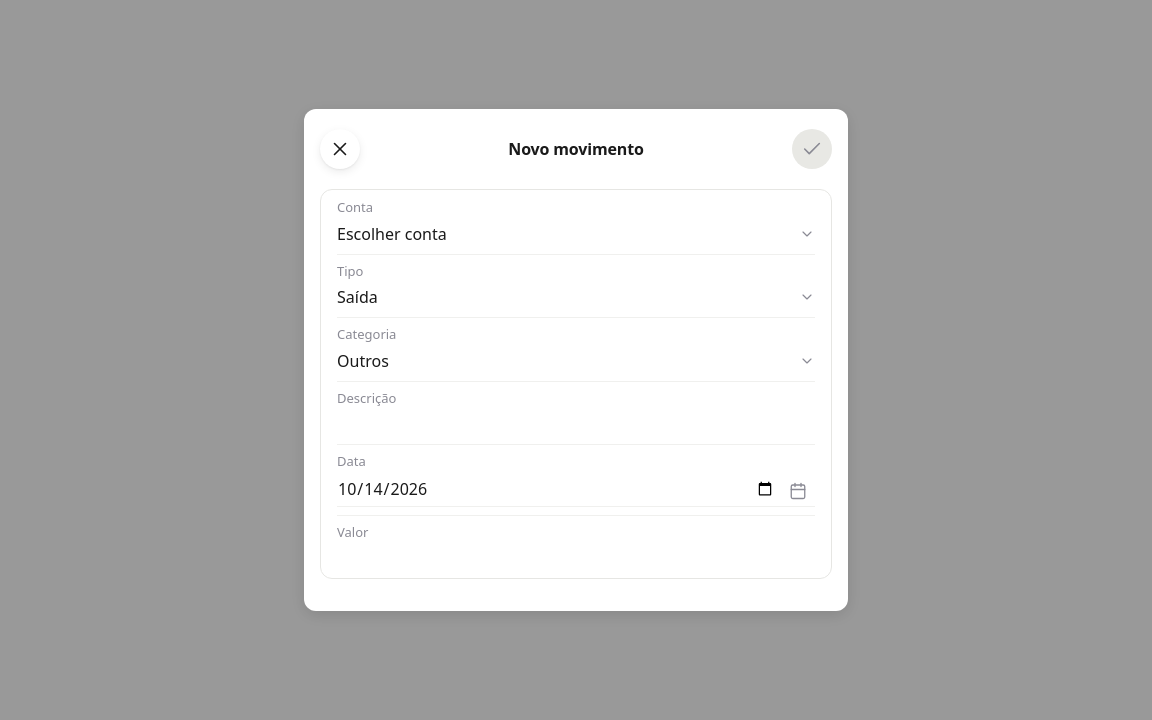
Test: Página Novo movimento › a categoria reservada "Acerto de saldo" não aparece para escolher, e a data não passa de hoje
The width and height of the screenshot is (1152, 720).
# A categoria por omissão de uma saída é "Outros", e não a reservada.
Click the button "Outros".
click(363, 360)  # box [337,348,815,372]
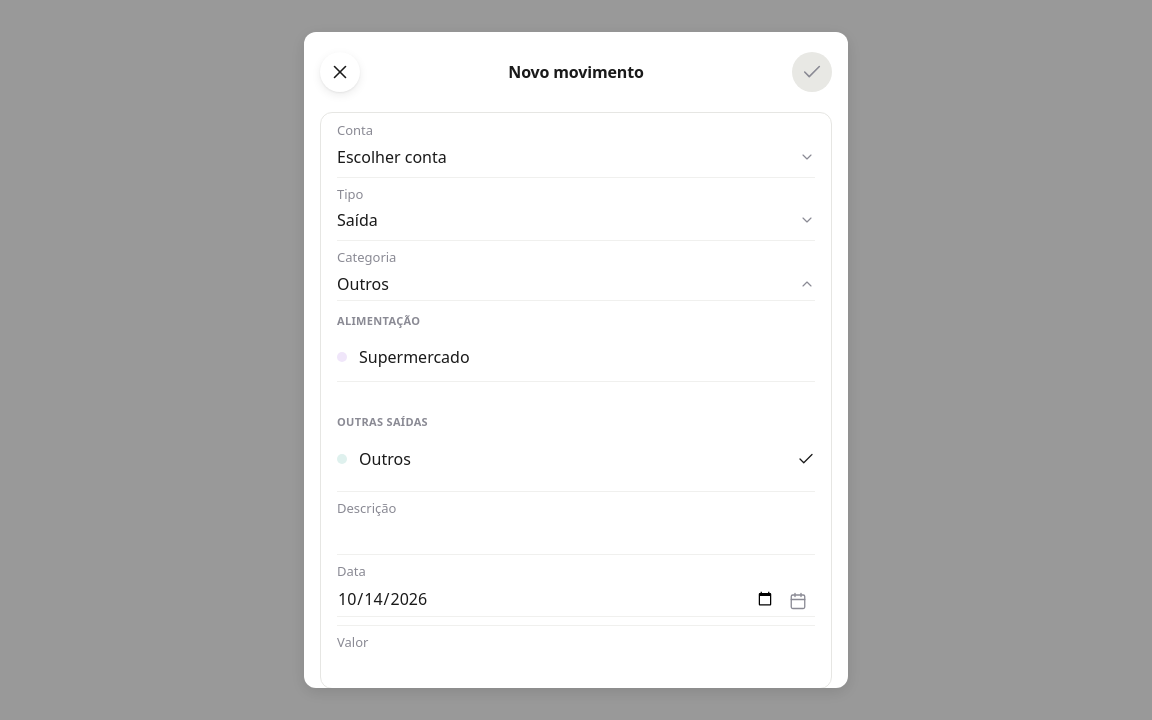
Check: the text "Supermercado" is shown, box [359,345,470,369]
